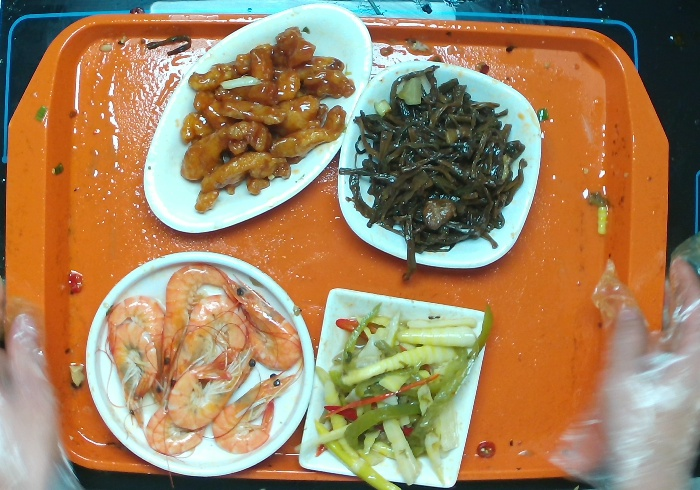HZYJPL-Si_Fang_Die: (295, 286, 491, 490)
HZYJPL-Si_Fang_Yuan_Die: (334, 59, 544, 271)
HZYJPL-Xiao_Yu_Die: (140, 1, 375, 236)
HZYJPL-Xiao_Yuan_Die: (83, 248, 317, 483)
